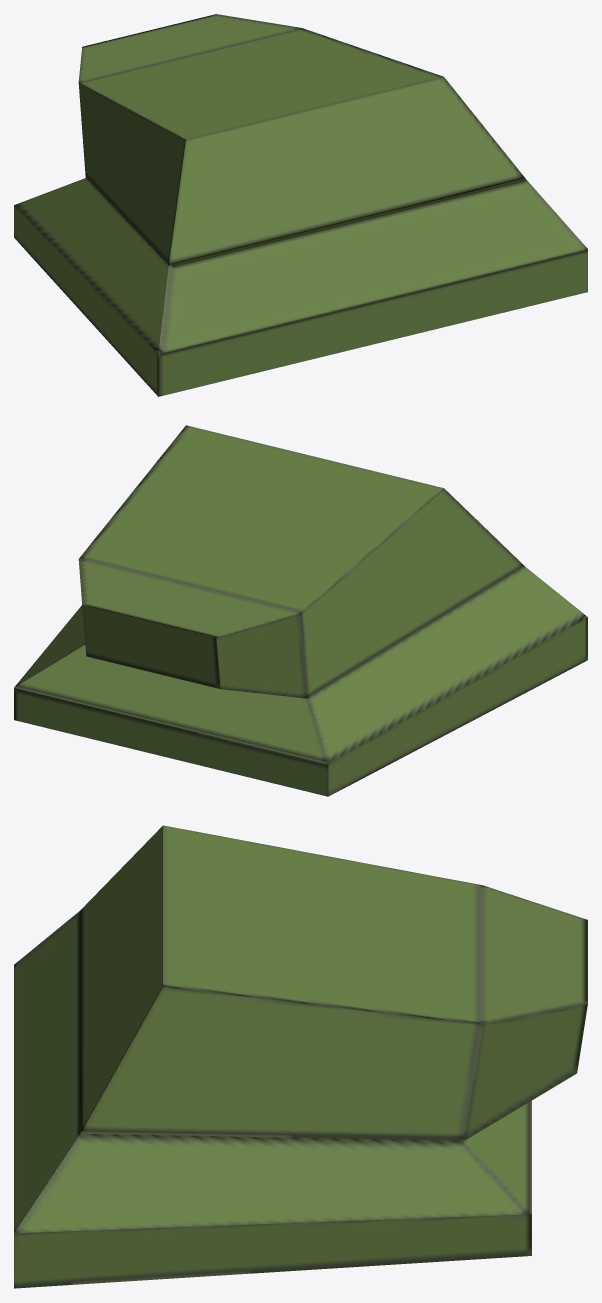
Rendered from shipGun2Model.fbx.
3 renders of one model, top to bottom at view 1: azimuth 30°, elevation 25°; view 2: azimuth 150°, elevation 25°; view 3: azimuth 270°, elevation 25°, orthographic. The views are drawn at different scales.
Parts seen in each view (by area): view 1: Cube.001; view 2: Cube.001; view 3: Cube.001.
Part boxes in pixels (x1,y1,x2,y2): Cube.001: (14, 14, 587, 396); Cube.001: (14, 425, 587, 796); Cube.001: (14, 825, 587, 1288).
Bounding box in the file's own units: 171 × 74.67 × 154.
